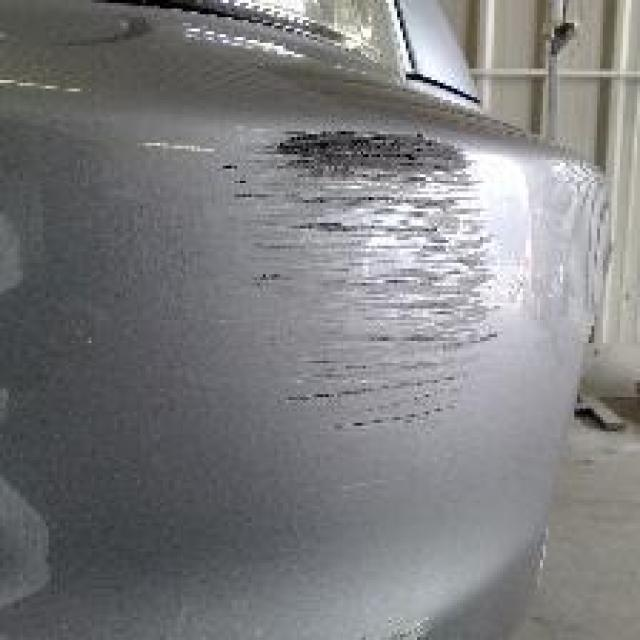damaged: (0, 62, 534, 434), (338, 612, 446, 638)
